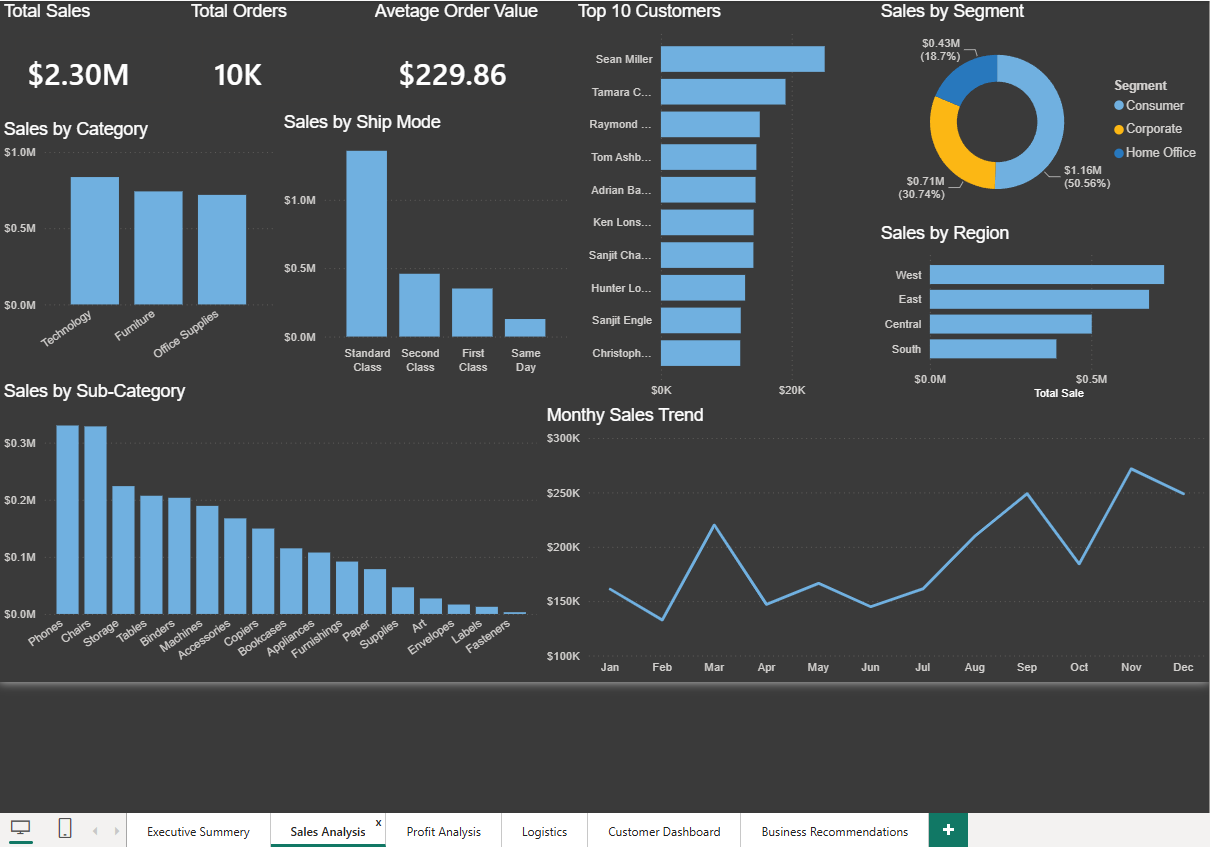

The page's visual inventory and layout, read from the dashboard file:
{"tool":"powerbi","page":{"name":"Sales Analysis ","canvas":[1280,720],"ordinal":1},"visuals":[{"type":"cardVisual","title":"Total Sales","fields":{"Data":["_Measures.Total Sale"]},"box":[0,0,197.9,125.3],"z":0},{"type":"cardVisual","title":"Total Orders","fields":{"Data":["_Measures.Total Orders"]},"box":[197.9,0,194.7,125.3],"z":1},{"type":"cardVisual","title":"Avetage Order Value","fields":{"Data":["_Measures.Average Order Value"]},"box":[392.6,0,214.7,125.3],"z":2},{"type":"clusteredColumnChart","title":"Sales by Category","fields":{"Category":["FactOrders.Category"],"Y":["_Measures.Total Sale"]},"box":[0,124.8,296.2,277.2],"z":3},{"type":"clusteredColumnChart","title":"Sales by Sub-Category","fields":{"Category":["FactOrders.Sub-Category"],"Y":["_Measures.Total Sale"]},"box":[0,402,574.4,318.4],"z":4},{"type":"clusteredBarChart","title":"Top 10 Customers","fields":{"Category":["FactOrders.Customer Name"],"Y":["_Measures.Total Sale"]},"box":[607.2,0,320.5,427.4],"z":5},{"type":"donutChart","title":"Sales by Segment","fields":{"Category":["FactOrders.Segment"],"Y":["_Measures.Total Sale"]},"box":[927.7,0,352.3,234.8],"z":6},{"type":"clusteredColumnChart","title":"Sales by Ship Mode","fields":{"Y":["_Measures.Total Sale"],"Category":["FactOrders.Ship Mode"]},"box":[296.2,117.4,311,284.6],"z":7},{"type":"lineChart","title":"Monthy Sales Trend","fields":{"Y":["_Measures.Total Sale"],"Category":["DimDate.Month Name"]},"box":[574.4,427.4,705.6,293],"z":8},{"type":"clusteredBarChart","title":"Sales by Region","fields":{"Category":["FactOrders.Region"],"Y":["_Measures.Total Sale"]},"box":[927.7,234.8,352.3,192.5],"z":9}]}

Visuals, with their boxes on the page's 1280x720 design canvas (x1, y1, x2, y2). These are canvas units, not pixel positions in the 1210x847 screenshot, which may show the page scaled, cropped or inside an application window:
"Total Sales" cardVisual: select_region(0, 0, 198, 125)
"Total Orders" cardVisual: select_region(198, 0, 393, 125)
"Avetage Order Value" cardVisual: select_region(393, 0, 607, 125)
"Sales by Category" clusteredColumnChart: select_region(0, 125, 296, 402)
"Sales by Sub-Category" clusteredColumnChart: select_region(0, 402, 574, 720)
"Top 10 Customers" clusteredBarChart: select_region(607, 0, 928, 427)
"Sales by Segment" donutChart: select_region(928, 0, 1280, 235)
"Sales by Ship Mode" clusteredColumnChart: select_region(296, 117, 607, 402)
"Monthy Sales Trend" lineChart: select_region(574, 427, 1280, 720)
"Sales by Region" clusteredBarChart: select_region(928, 235, 1280, 427)
